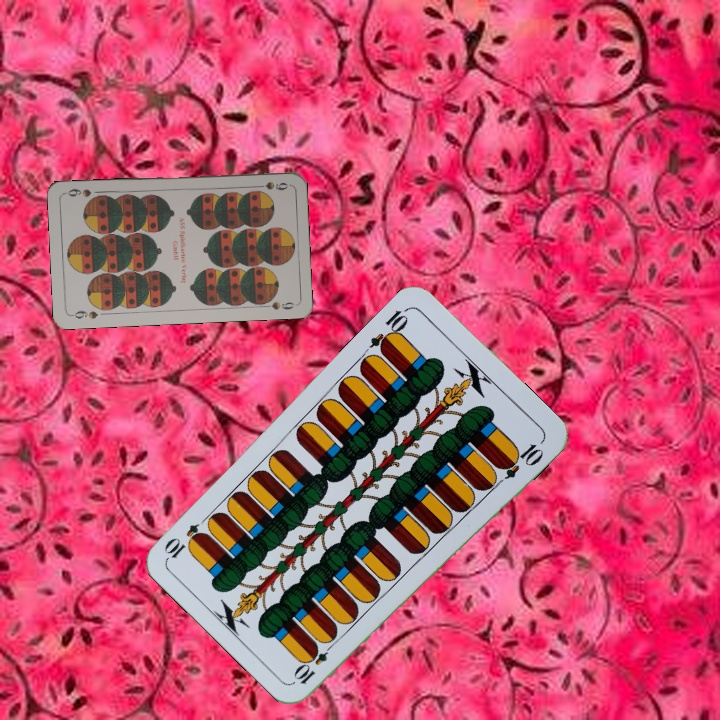E10: (366, 303, 412, 356), (291, 636, 338, 687)
S9: (250, 178, 291, 192), (67, 306, 100, 322)
